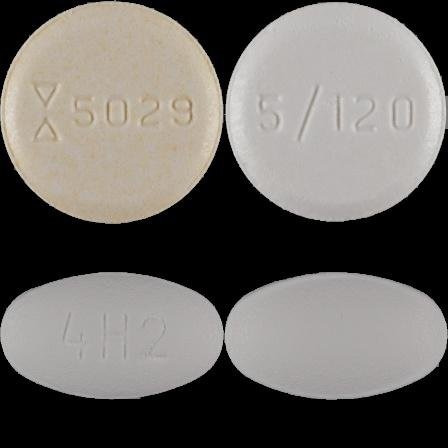45802-721: (0, 0, 224, 224)
